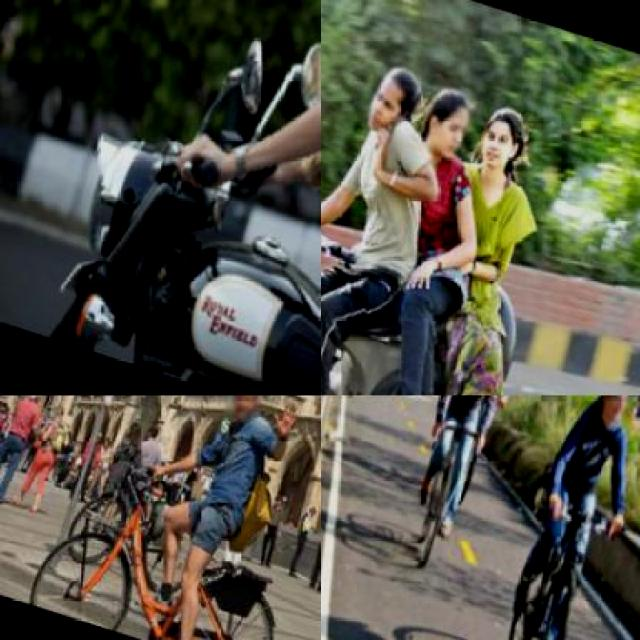Without Helmet: (404, 80, 487, 180), (463, 97, 542, 191), (354, 53, 428, 144), (584, 395, 638, 434), (211, 395, 266, 431)
